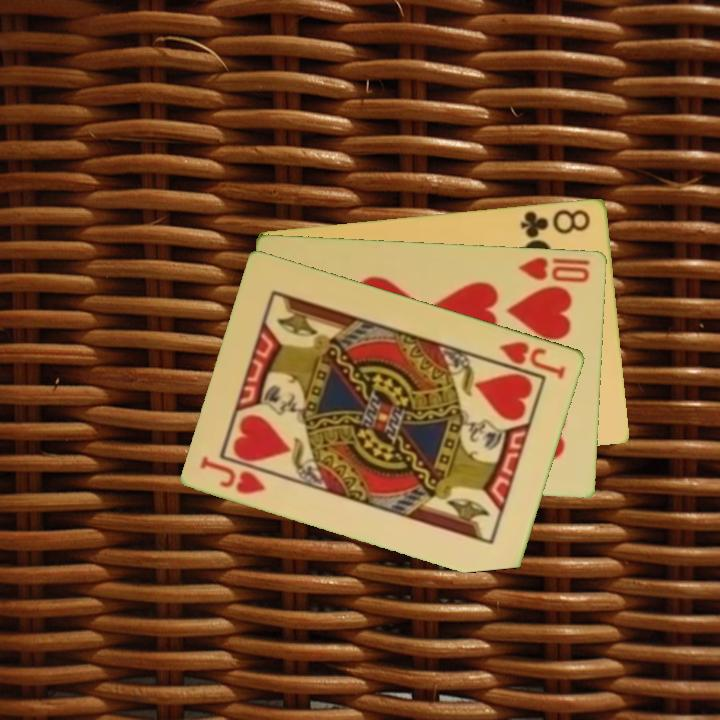10h: (516, 253, 593, 285)
8c: (518, 205, 594, 240)
Jh: (486, 337, 569, 382), (197, 452, 270, 497)
